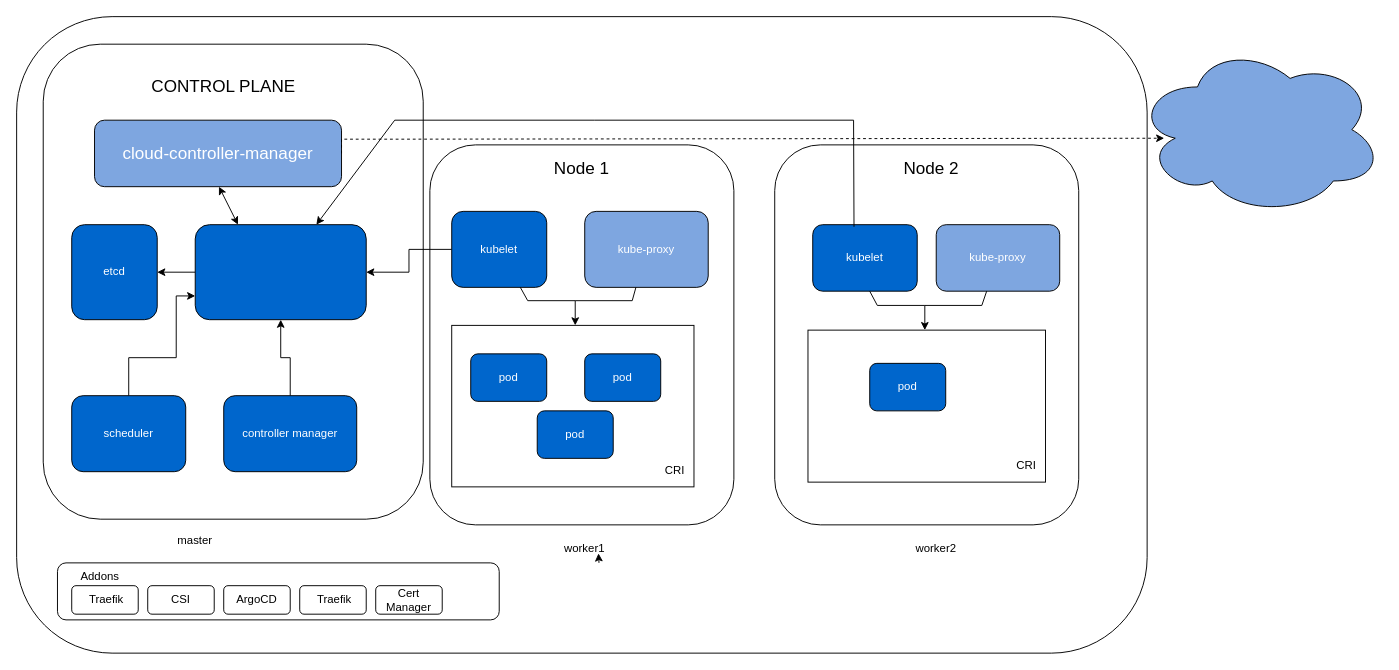
The diagram is 1399 pixels wide and 670 high, and some of its shapes have lost their labels. Here are the shapes that lost their labels. From the top down, the centre of each, then its label:
At point (1259, 129): "Load Balancer Digital Ocean".
At point (280, 272): "kube-apip-server".
